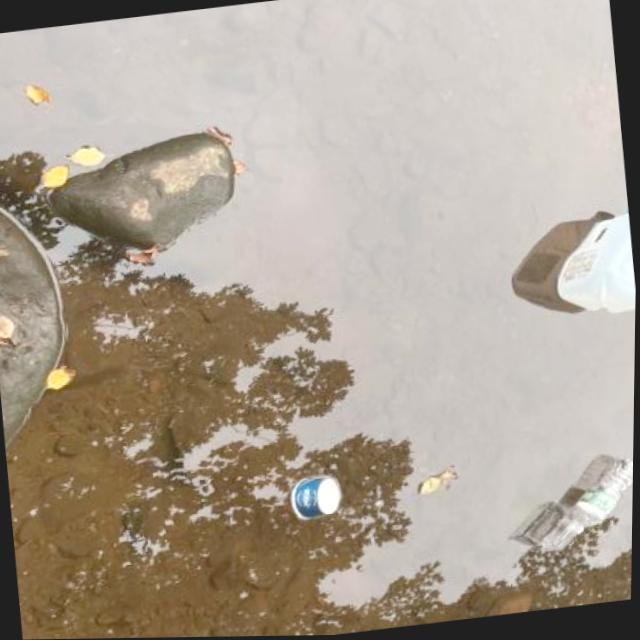Paper: (277, 463, 354, 528)
Plastic: (543, 204, 638, 327), (537, 453, 635, 561)
